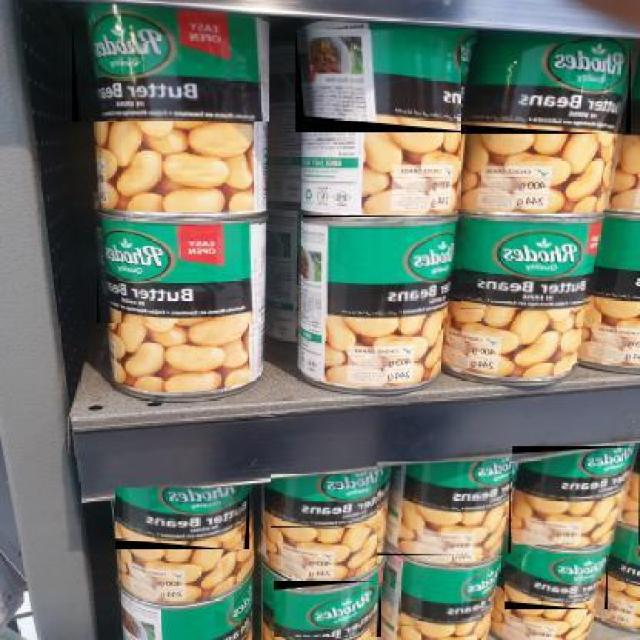Beans: (71, 3, 269, 123), (293, 30, 481, 135), (95, 221, 258, 325), (302, 215, 460, 320), (458, 43, 631, 135), (440, 218, 594, 312), (375, 461, 511, 557), (511, 446, 638, 548), (113, 488, 250, 550), (269, 473, 388, 530), (272, 580, 380, 638), (503, 554, 608, 611), (398, 568, 491, 628)
